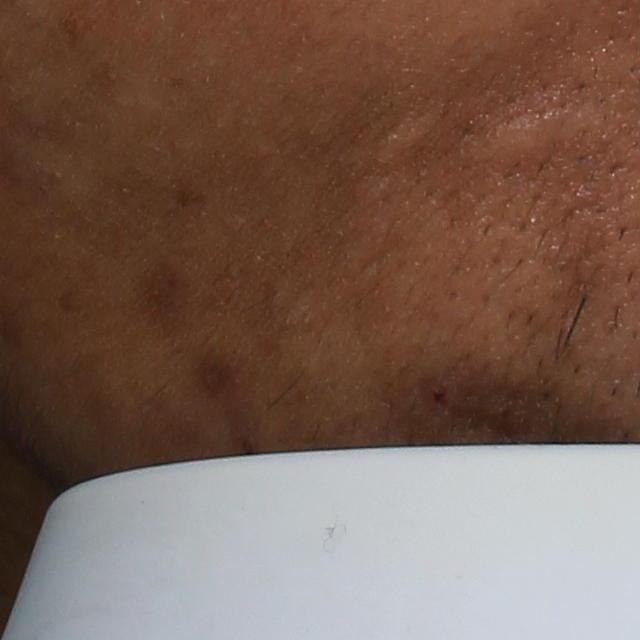hypertrophic_scar: (457, 95, 617, 171), (378, 103, 448, 165)
